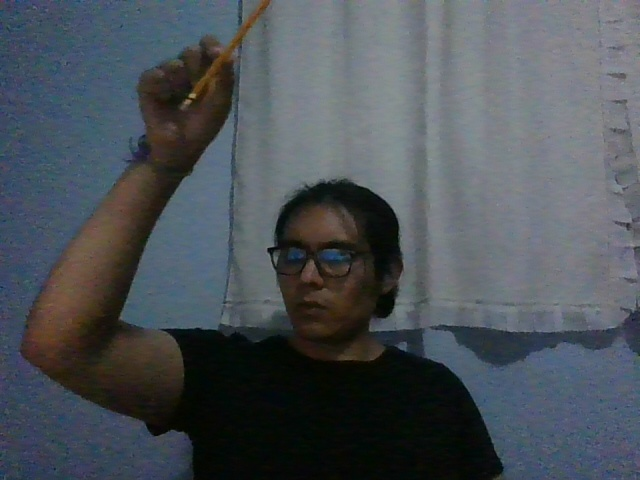lapiz: (178, 1, 272, 113)
